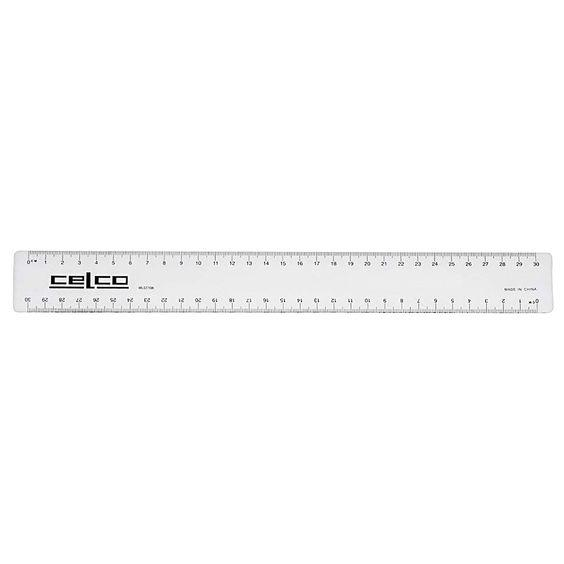PS: (13, 250, 555, 313)
